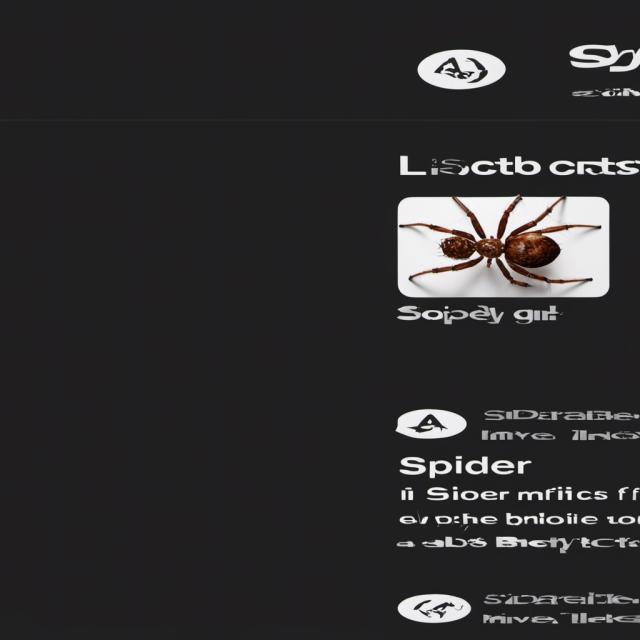spider: (398, 203, 605, 298)
